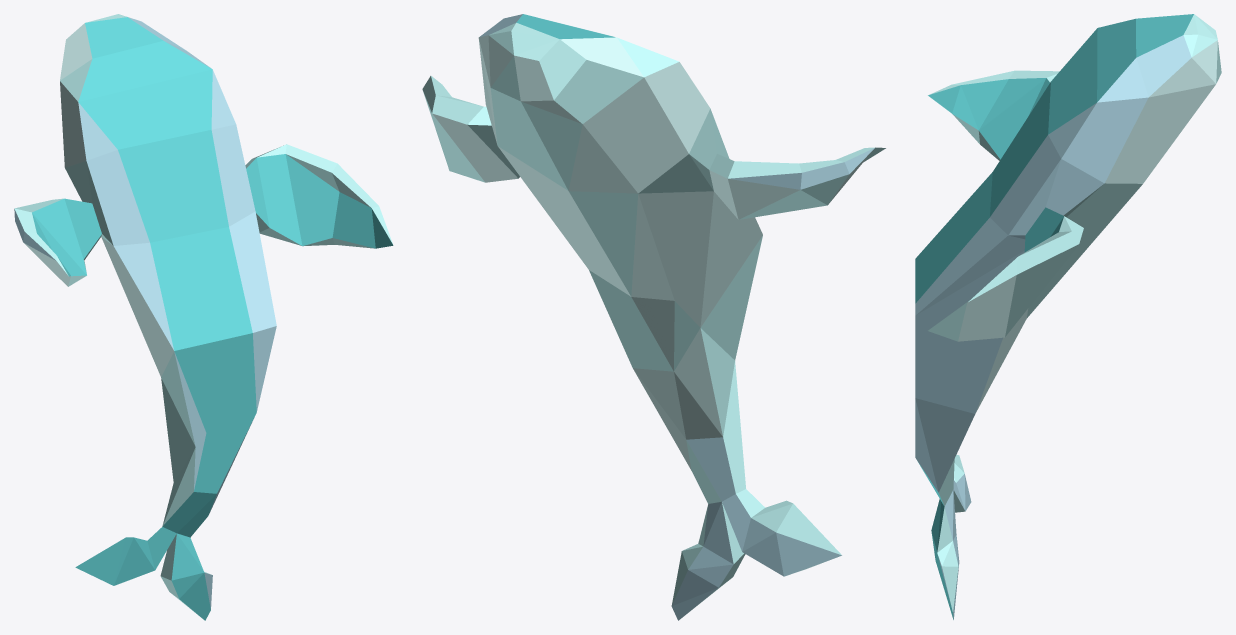
Rendered from statue_5.fbx.
3 views of the same model, side by side, from view 1: azimuth 30°, elevation 25°; view 2: azimuth 150°, elevation 25°; view 3: azimuth 270°, elevation 25° (orthographic). The views are drawn at different scales.
Visible parts, largest first — view 1: statue_5; view 2: statue_5; view 3: statue_5.
Boxes of the visible parts, x1,y1,x2,y2 form: statue_5: (14,14,393,620); statue_5: (422,14,885,620); statue_5: (915,14,1221,619).
Bounding box in the file's own units: 340 × 507 × 235.
